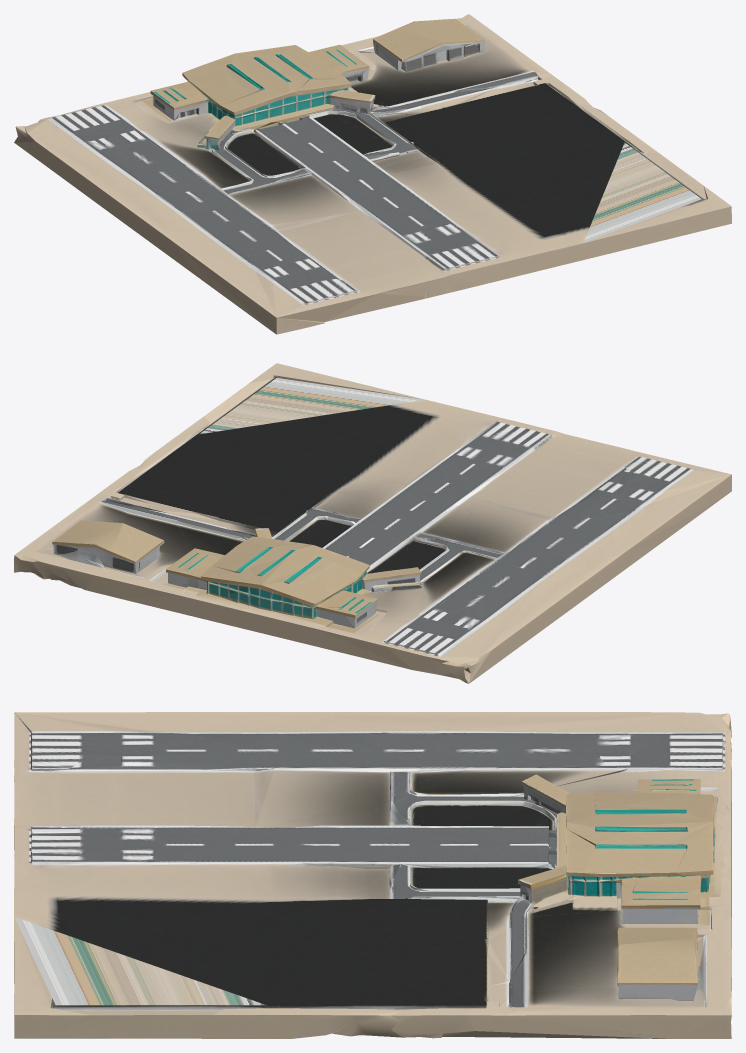
File: airport-base.glb
3 views of the same model, one above another, from view 1: azimuth 30°, elevation 25°; view 2: azimuth 150°, elevation 25°; view 3: azimuth 270°, elevation 25° (orthographic). The views are drawn at different scales.
Size of the model in its own units: 1.9 by 0.1714 by 1.9.
Materials: 1 (1 with a texture image).
